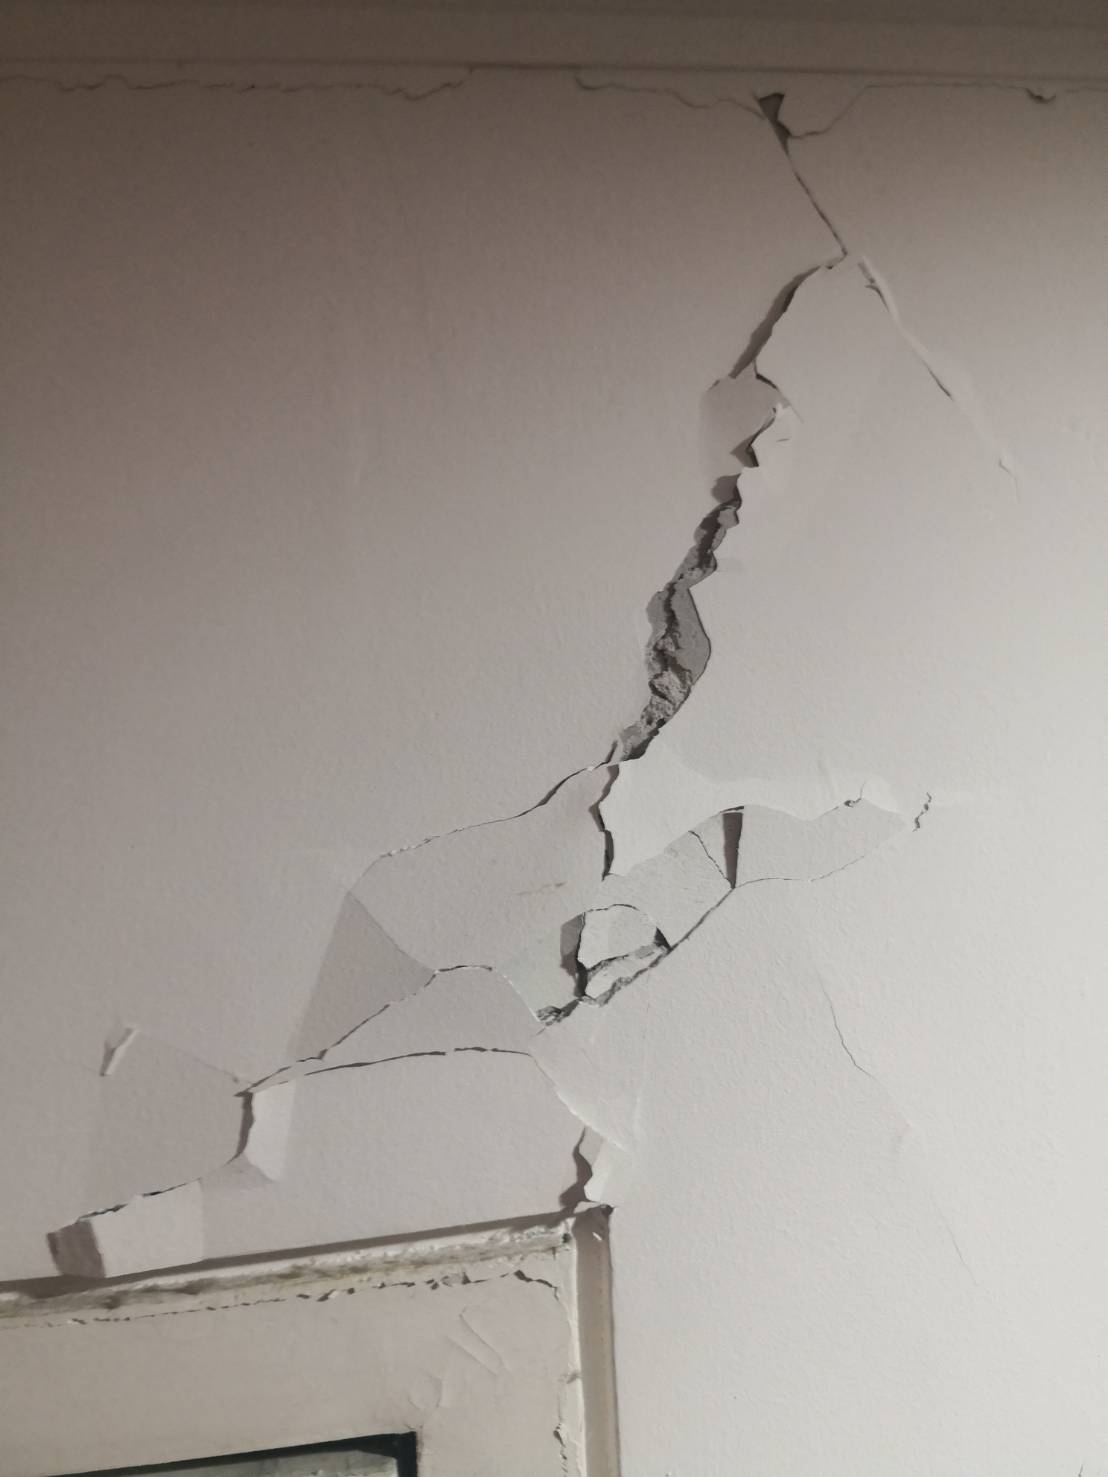Medium: (314, 272, 1002, 1098)
